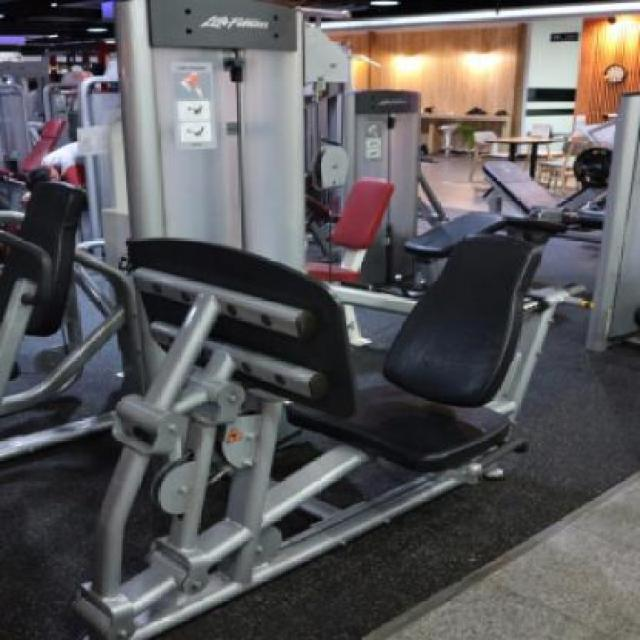leg press: (23, 198, 640, 640)
